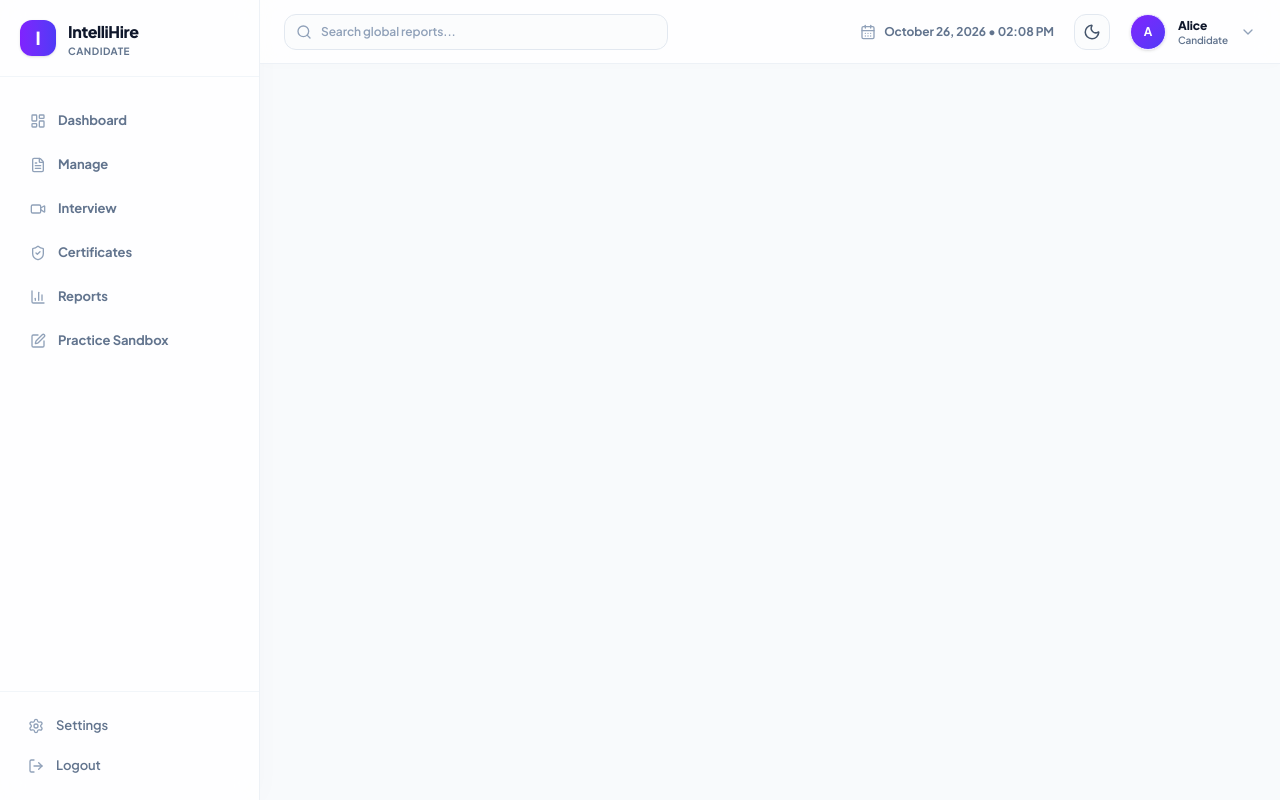
Layout › renders layout sidebar navigation elements and user profile stats
Click the text "Alice" at (1193, 26), box [1178,18,1207,33]
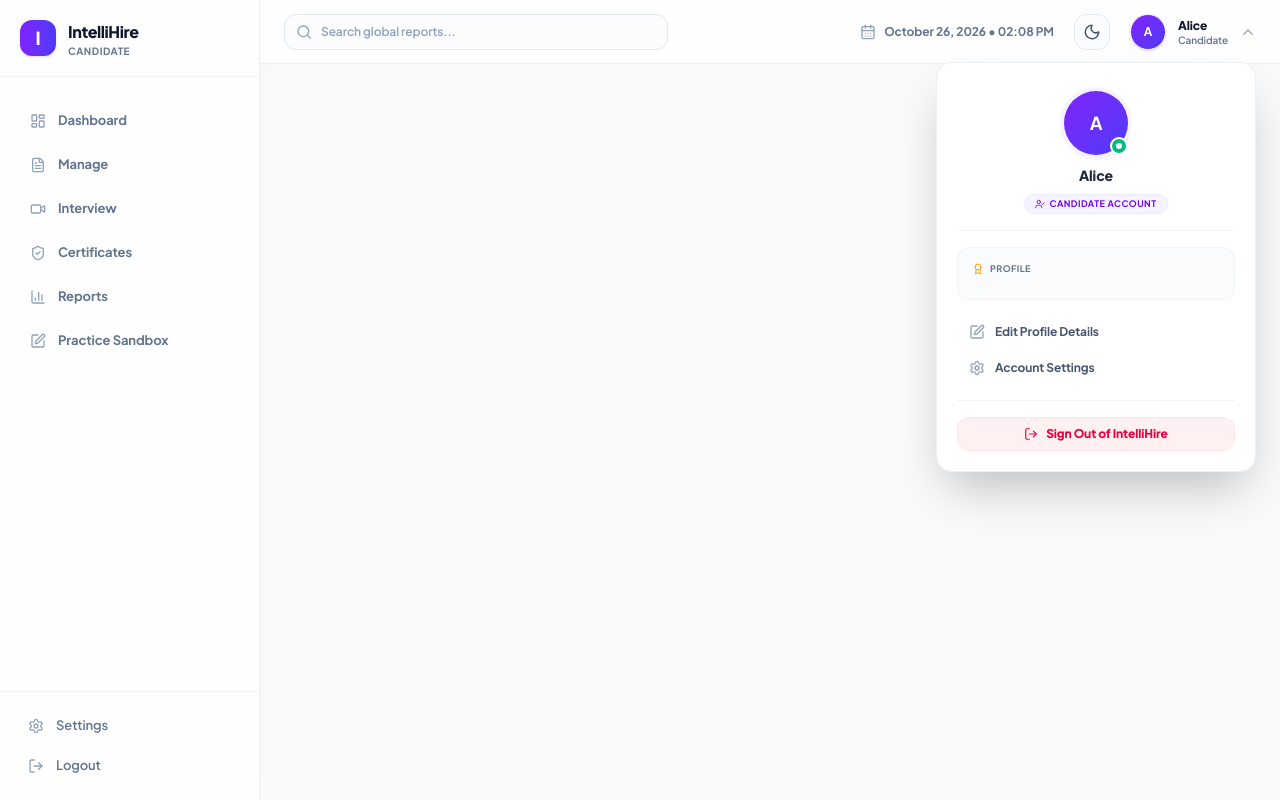
Check: the text "Profile" is shown, box [972,262,1031,274]
